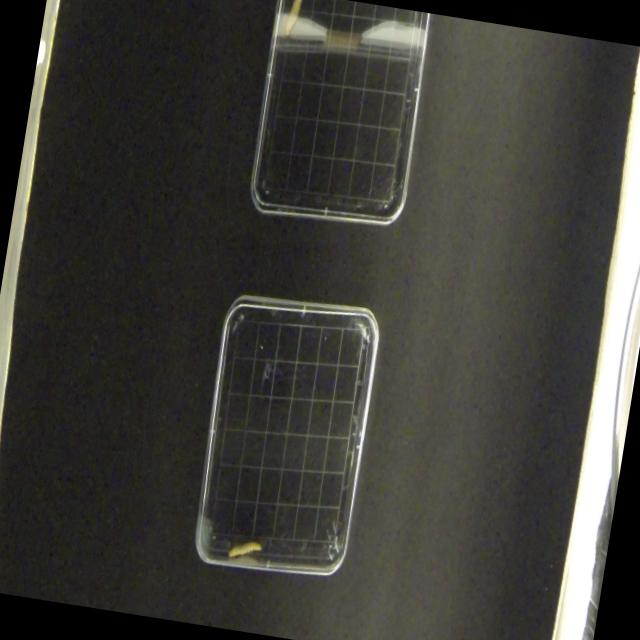larva: (225, 530, 266, 565), (282, 0, 307, 40)
